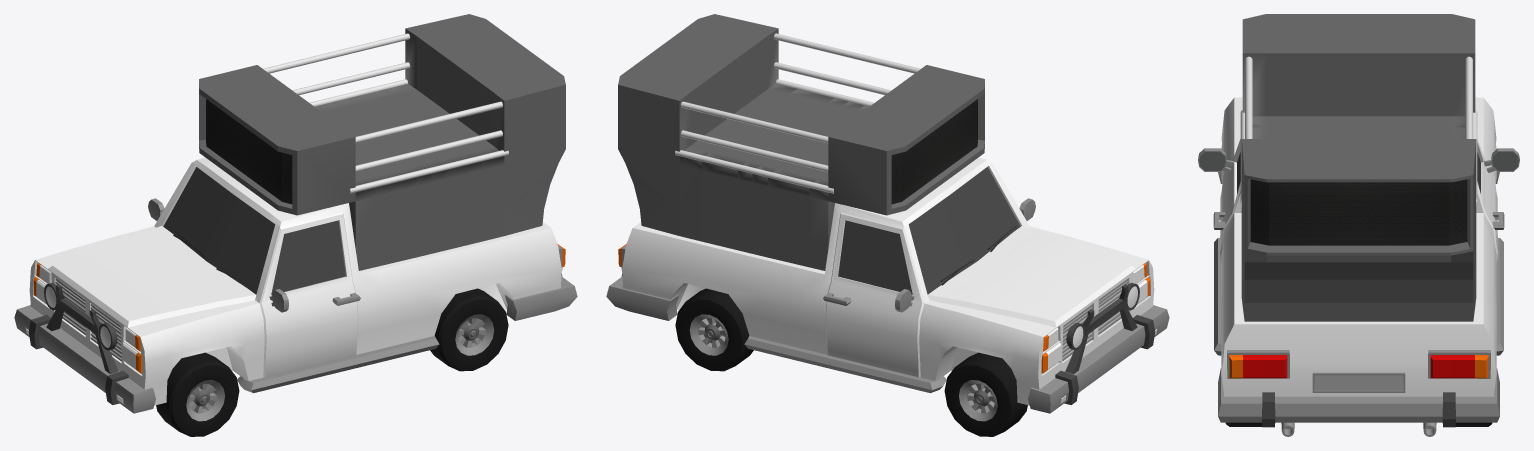
The model's file is Trio Eletrico3.fbx.
The picture shows the model from 3 angles, left to right: view 1: azimuth 30°, elevation 25°; view 2: azimuth 150°, elevation 25°; view 3: azimuth 270°, elevation 25°; orthographic projection. The views are drawn at different scales.
Parts seen in each view (by area): view 1: Car body.8, Car body.001, Cylinder, Car.8 left wheel, Car.8 left wheel.001; view 2: Car body.8, Car body.001, Cylinder, Car.8 right wheel, Car.8 right wheel.001; view 3: Car body.001, Car body.8, Cylinder.
Part boxes in pixels (x1,y1,x2,y2): Car body.8: (14, 157, 577, 413); Car body.001: (199, 14, 565, 270); Cylinder: (263, 33, 508, 193); Car.8 left wheel: (156, 352, 239, 436); Car.8 left wheel.001: (430, 288, 508, 371); Car body.8: (606, 157, 1169, 413); Car body.001: (618, 14, 984, 270); Cylinder: (675, 33, 920, 193); Car.8 right wheel: (944, 352, 1027, 436); Car.8 right wheel.001: (675, 288, 753, 371); Car body.001: (1241, 14, 1476, 321); Car body.8: (1198, 97, 1519, 436); Cylinder: (1240, 56, 1477, 206).
Bounding box in the file's own units: 500 × 270 × 259.
Materials: 3 (2 with a texture image).
